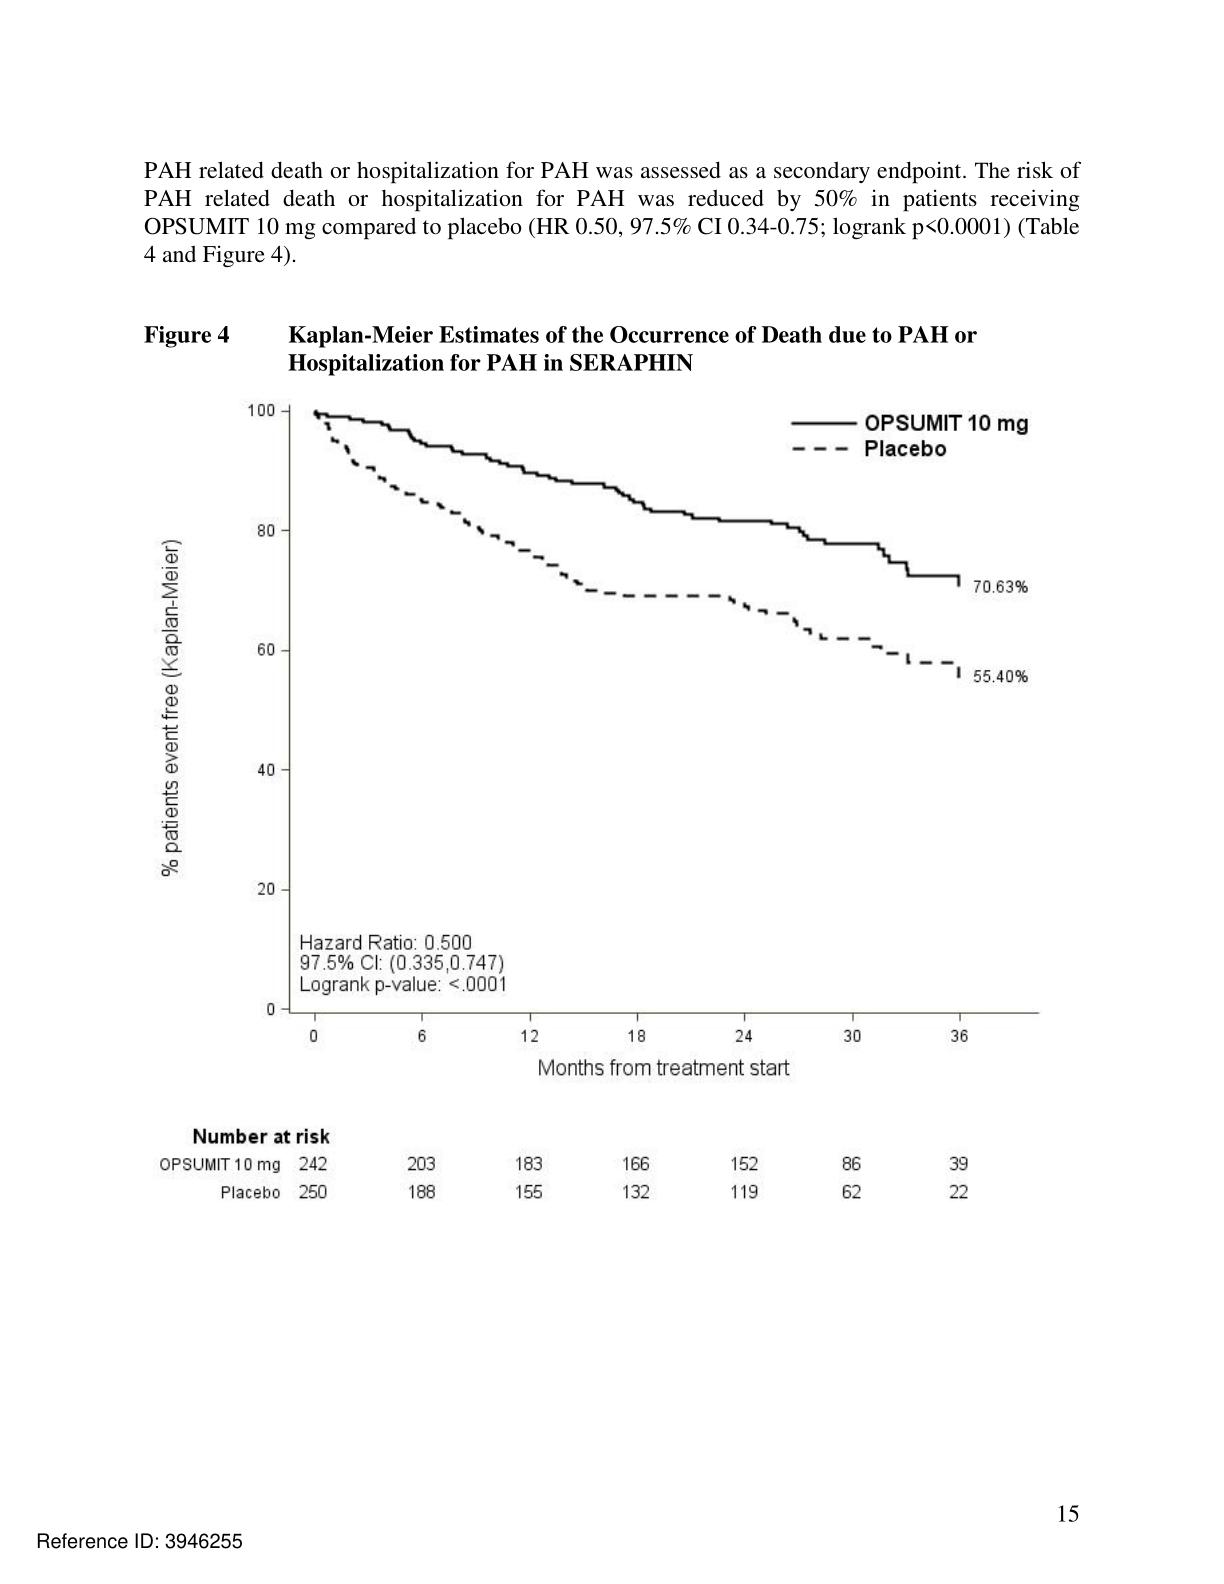nolines: (157, 1149, 975, 1203)
